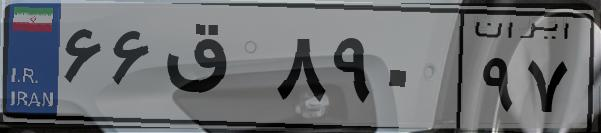0: (385, 28, 445, 110)
6: (57, 26, 110, 100), (110, 28, 158, 98)
7: (525, 38, 570, 115)
8: (270, 28, 330, 110)
9: (330, 28, 385, 110), (475, 38, 525, 113)
ق: (158, 20, 270, 120)
